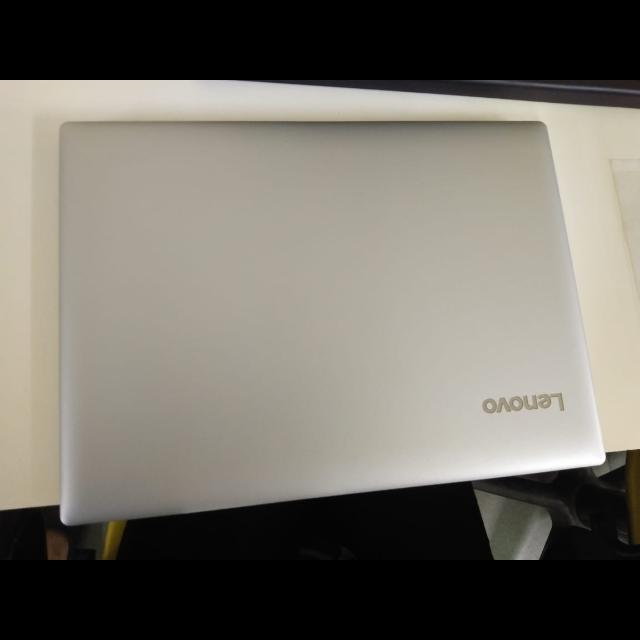Laptop: (51, 116, 618, 536)
